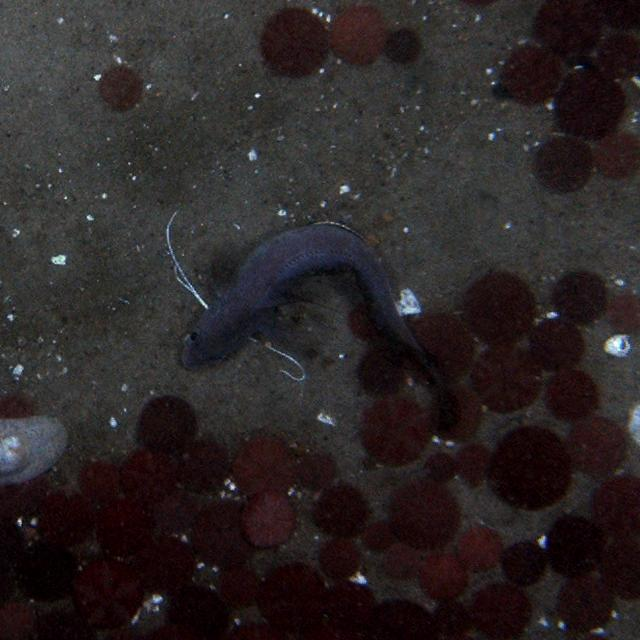roundfish: (166, 212, 458, 430)
